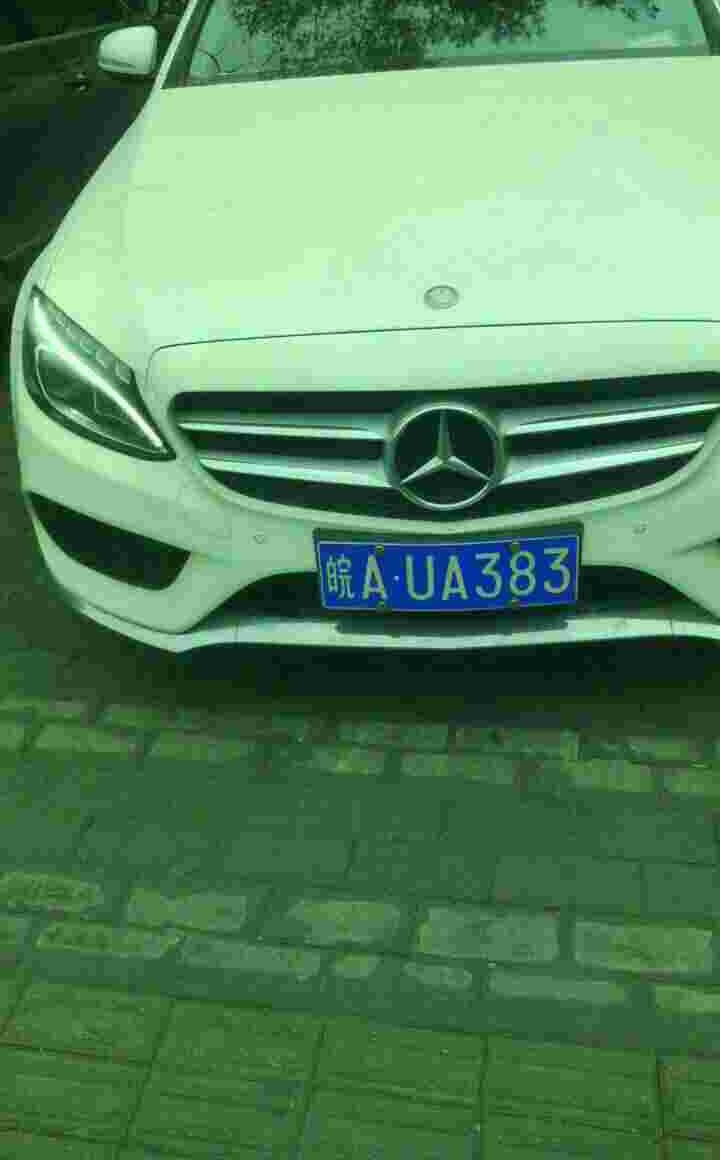license_plate: (322, 534, 569, 616)
